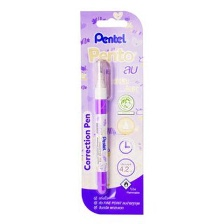book: (74, 6, 146, 218)
correction_fluid: (90, 56, 115, 197)
